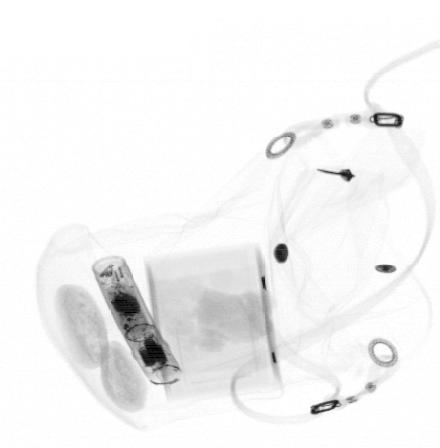Baton: (88, 254, 183, 388)
